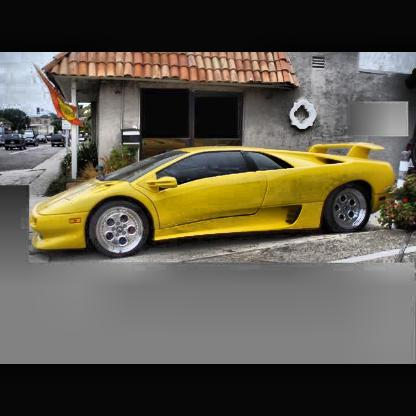Lamborghini Diablo Coupe 2001: (13, 128, 408, 267)
